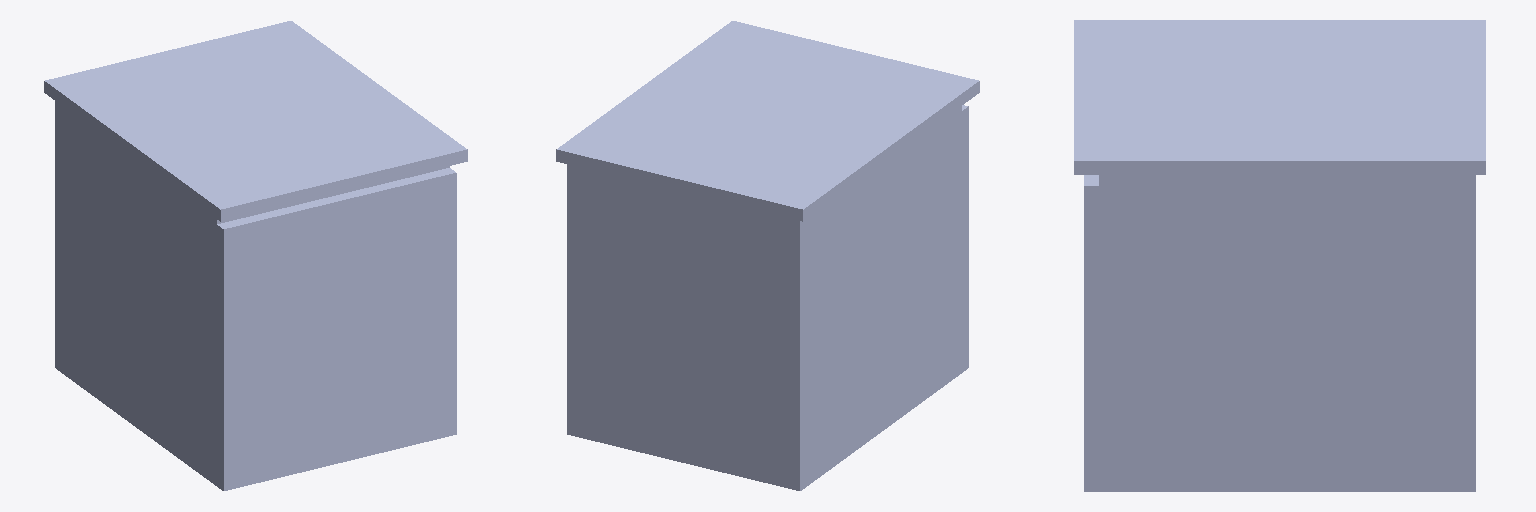
The robot description file, URDF, robot "Drawer_On_Top":
<?xml version="1.0" encoding="utf-8"?>
<!-- This URDF was automatically created by SolidWorks to URDF Exporter! Originally created by [author] ([email redacted]) 
     Commit Version: 1.5.1-0-g916b5db  Build Version: 1.5.7152.31018
     For more information, please see http://wiki.ros.org/sw_urdf_exporter -->
<robot
  name="Drawer_On_Top">
  <link
    name="Drawer_On_Top">
    <inertial>
      <origin
        xyz="-5.0702E-17 -0.00767499999999999 0.23518"
        rpy="0 0 0" />
      <mass
        value="35" />
      <inertia
        ixx="3.9466"
        ixy="1.5446E-16"
        ixz="-1.3928E-16"
        iyy="3.104"
        iyz="0.01977"
        izz="3.4589" />
    </inertial>
    <visual>
      <origin
        xyz="0 0 0"
        rpy="1.5707963267949 0 0" />
      <geometry>
        <mesh
          filename="package://Drawer_On_Top/meshes/Drawer_On_Top.STL" />
      </geometry>
      <material
        name="">
        <color
          rgba="0.79216 0.81961 0.93333 1" />
        <texture
          filename="package://Drawer_On_Top/textures/" />
      </material>
    </visual>
    <collision>
      <origin
        xyz="0 0 0"
        rpy="1.5707963267949 0 0" />
      <geometry>
        <mesh
          filename="package://Drawer_On_Top/meshes/Drawer_On_Top.STL" />
      </geometry>
    </collision>
  </link>
</robot>

--- What the picture shows (computed from the rendered views, not written in the file) ---
3 views of the same robot in one strip: view 1: azimuth 30°, elevation 25°; view 2: azimuth 150°, elevation 25°; view 3: azimuth 270°, elevation 25° (orthographic).
Robot: Drawer_On_Top — 1 links, 0 joints (none); root link Drawer_On_Top; default pose: all joints at 0.
Visible links, largest first — view 1: Drawer_On_Top; view 2: Drawer_On_Top; view 3: Drawer_On_Top.
Boxes of the visible links, x1,y1,x2,y2 form: Drawer_On_Top: [44, 21, 467, 490]; Drawer_On_Top: [556, 21, 979, 490]; Drawer_On_Top: [1074, 20, 1485, 491].
Bounding box of the posed robot: 0.424 × 0.524 × 0.47 m (x, y, z).
Meshes: 1 distinct files referenced, 1 mesh visuals loaded (1 binary STL).